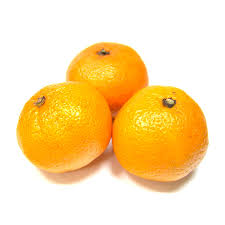orange: (114, 87, 208, 183), (16, 82, 111, 173), (66, 42, 150, 121)
